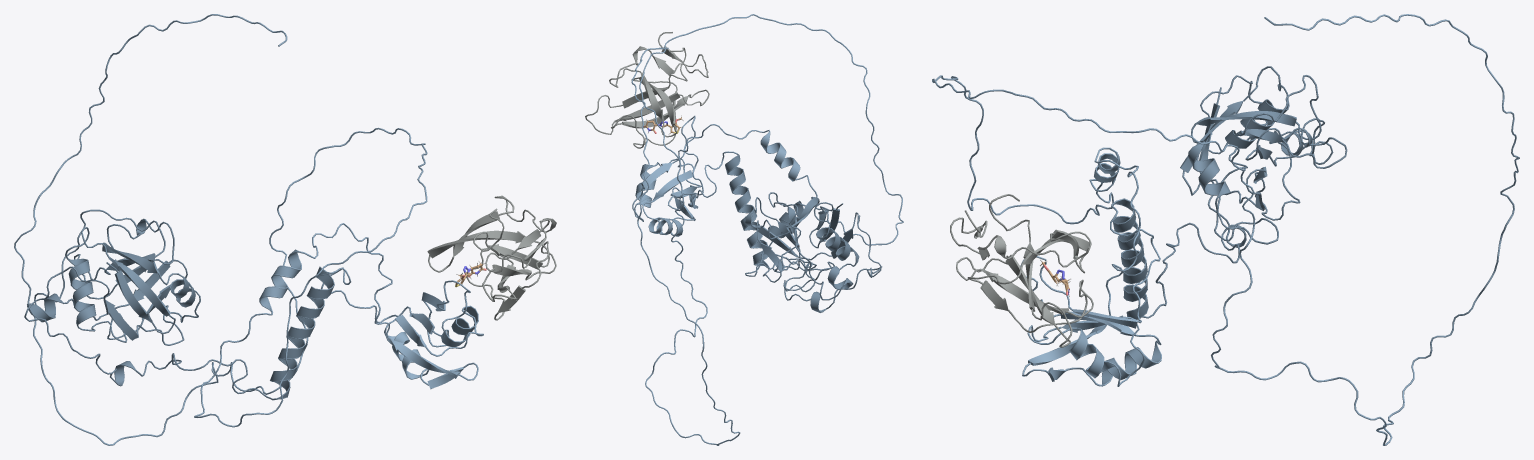
File: FPFT_2216_positive_control.glb
3 renders of one model, left to right at view 1: azimuth 30°, elevation 25°; view 2: azimuth 150°, elevation 25°; view 3: azimuth 270°, elevation 25°, orthographic. The views are drawn at different scales.
Parts seen in each view (by area): view 1: node-geom57, node-geom58; view 2: node-geom57, node-geom58; view 3: node-geom57, node-geom58.
Boxes of the visible parts, bbox=[...] form: node-geom57: bbox=[24, 195, 556, 400]; node-geom58: bbox=[14, 14, 483, 445]; node-geom57: bbox=[585, 32, 882, 312]; node-geom58: bbox=[631, 14, 903, 445]; node-geom57: bbox=[950, 66, 1347, 347]; node-geom58: bbox=[932, 14, 1519, 445].
Bounding box in the file's own units: 120 × 107 × 122.
